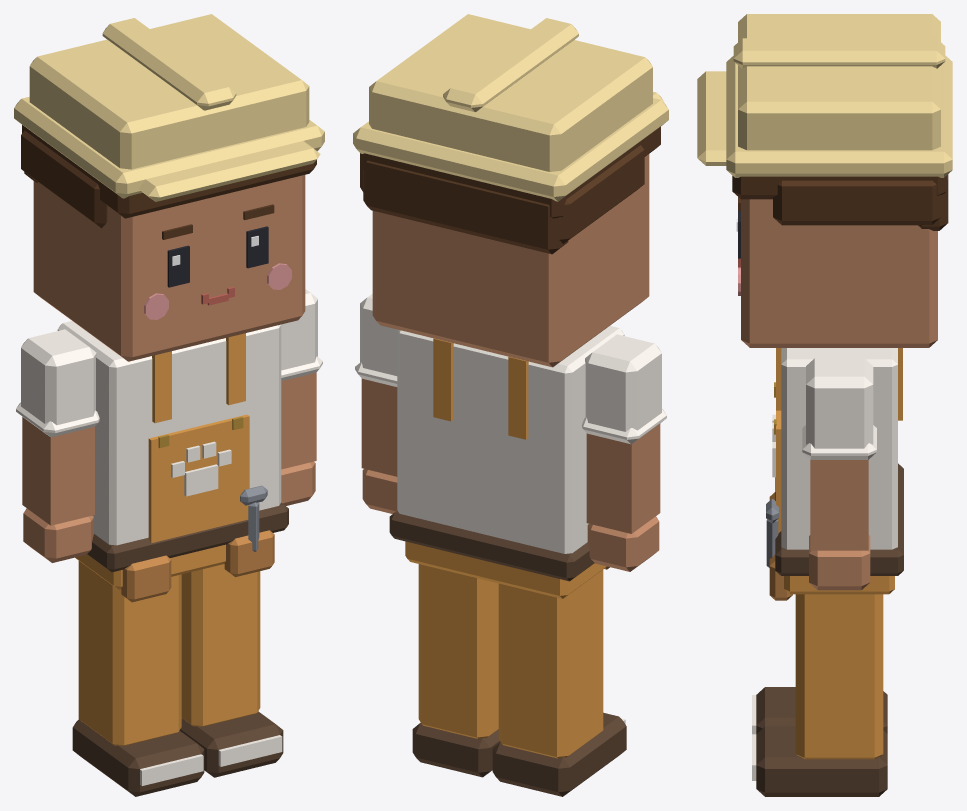
The model's file is CleanACat_NPC_Builder.fbx.
The picture shows the model from 3 angles, left to right: view 1: azimuth 30°, elevation 25°; view 2: azimuth 150°, elevation 25°; view 3: azimuth 270°, elevation 25°; orthographic projection. The views are drawn at different scales.
Visible parts, largest first — view 1: CleanACat_NPC_Builder_Head, CleanACat_NPC_Builder_Body, CleanACat_NPC_Builder_LegR, CleanACat_NPC_Builder_LegL, CleanACat_NPC_Builder_ArmR, CleanACat_NPC_Builder_ArmL; view 2: CleanACat_NPC_Builder_Head, CleanACat_NPC_Builder_Body, CleanACat_NPC_Builder_LegR, CleanACat_NPC_Builder_ArmR, CleanACat_NPC_Builder_LegL, CleanACat_NPC_Builder_ArmL; view 3: CleanACat_NPC_Builder_Head, CleanACat_NPC_Builder_LegL, CleanACat_NPC_Builder_Body, CleanACat_NPC_Builder_ArmL, CleanACat_NPC_Builder_LegR.
Part boxes in pixels (box(x1,y1,x2,y2)): CleanACat_NPC_Builder_Head: box(14, 14, 324, 361); CleanACat_NPC_Builder_Body: box(57, 321, 288, 602); CleanACat_NPC_Builder_LegR: box(72, 561, 204, 796); CleanACat_NPC_Builder_LegL: box(179, 564, 283, 777); CleanACat_NPC_Builder_ArmR: box(16, 329, 99, 562); CleanACat_NPC_Builder_ArmL: box(281, 289, 322, 505); CleanACat_NPC_Builder_Head: box(353, 14, 668, 367); CleanACat_NPC_Builder_Body: box(389, 326, 624, 598); CleanACat_NPC_Builder_LegR: box(492, 569, 626, 796); CleanACat_NPC_Builder_ArmR: box(582, 334, 666, 571); CleanACat_NPC_Builder_LegL: box(412, 564, 500, 777); CleanACat_NPC_Builder_ArmL: box(355, 294, 397, 513); CleanACat_NPC_Builder_Head: box(697, 14, 952, 347); CleanACat_NPC_Builder_LegL: box(752, 594, 887, 796); CleanACat_NPC_Builder_Body: box(766, 348, 903, 600); CleanACat_NPC_Builder_ArmL: box(802, 358, 876, 590); CleanACat_NPC_Builder_LegR: box(752, 687, 887, 734).
Bounding box in the file's own units: 2.27 × 5.42 × 1.75.
Materials: 1 (1 with a texture image).
